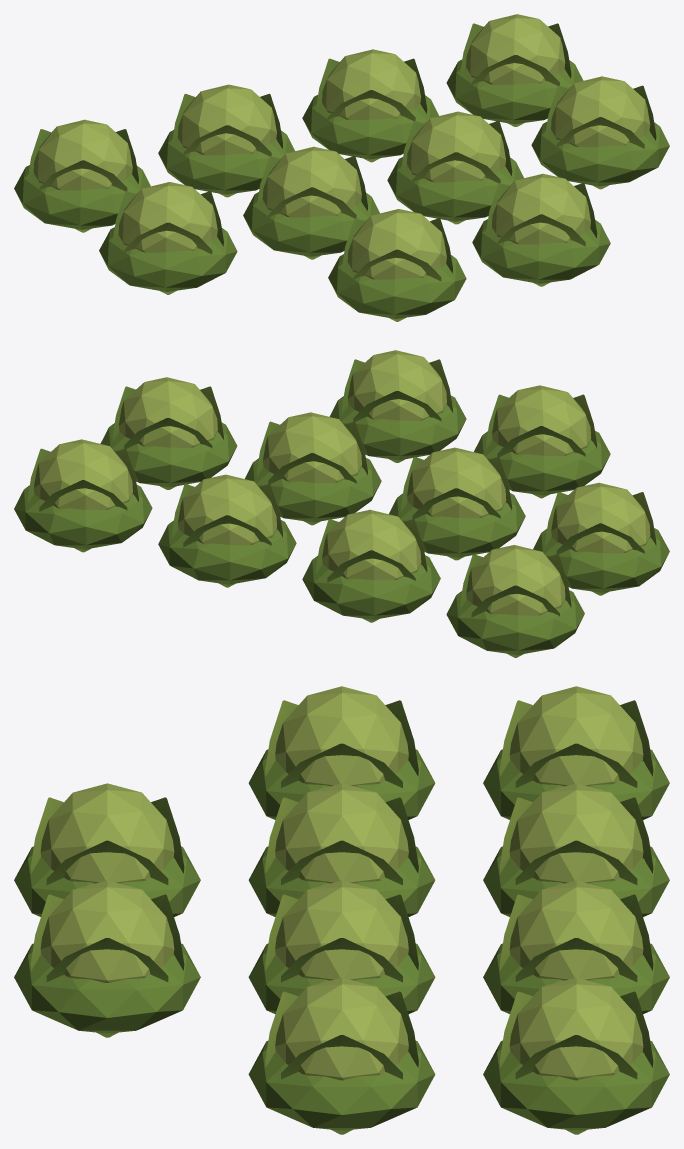
File: pile-lettuce-10.gltf
The picture shows the model from 3 angles, top to bottom: view 1: azimuth 30°, elevation 25°; view 2: azimuth 150°, elevation 25°; view 3: azimuth 270°, elevation 25°; orthographic projection. The views are drawn at different scales.
Visible parts, largest first — view 1: pile-lettuce-10; view 2: pile-lettuce-10; view 3: pile-lettuce-10.
Boxes of the visible parts, bbox=[...] form: pile-lettuce-10: bbox=[14, 14, 669, 321]; pile-lettuce-10: bbox=[14, 350, 669, 657]; pile-lettuce-10: bbox=[14, 686, 669, 1134].
Size of the model in its own units: 0.9216 by 0.1512 by 0.6853.
